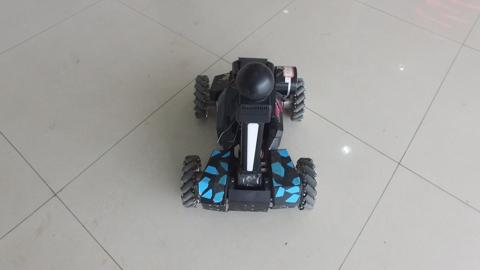chariot: (171, 40, 329, 210)
